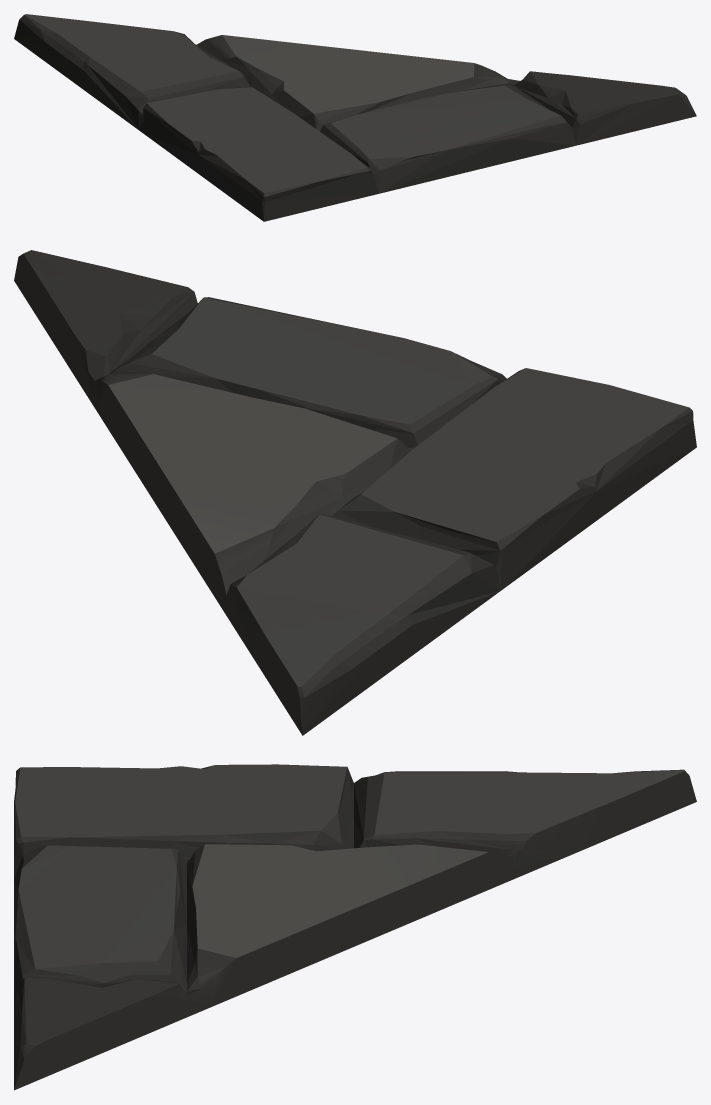
The model's file is SM_Bld_45_Floor_Tile_01.fbx.
3 views of the same model, one above another, from view 1: azimuth 30°, elevation 25°; view 2: azimuth 150°, elevation 25°; view 3: azimuth 270°, elevation 25° (orthographic). The views are drawn at different scales.
Visible parts, largest first — view 1: SM_Bld_45_Floor_Tile_01; view 2: SM_Bld_45_Floor_Tile_01; view 3: SM_Bld_45_Floor_Tile_01.
Part boxes in pixels (left/top/right/bottom): SM_Bld_45_Floor_Tile_01: left=14, top=14, right=696, bottom=221; SM_Bld_45_Floor_Tile_01: left=14, top=250, right=696, bottom=735; SM_Bld_45_Floor_Tile_01: left=14, top=764, right=696, bottom=1090.
Size of the model in its own units: 251 by 15.48 by 250.
Materials: 1 (1 with a texture image).
